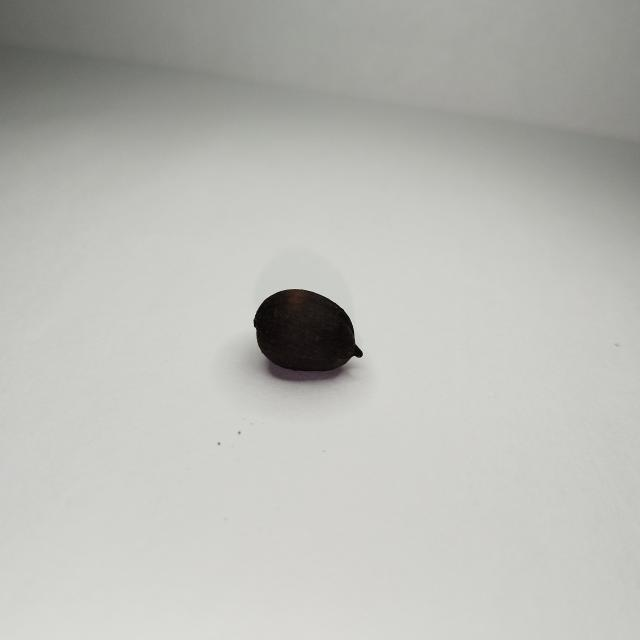Danado: (254, 289, 363, 371)
